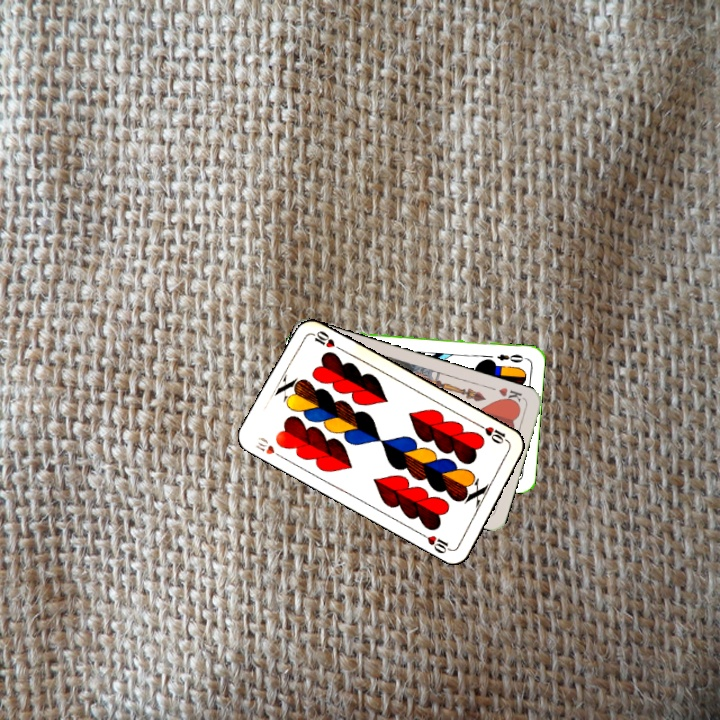EO: (493, 350, 529, 365)
H10: (252, 433, 287, 462), (475, 420, 512, 447)
HK: (495, 383, 527, 408)
